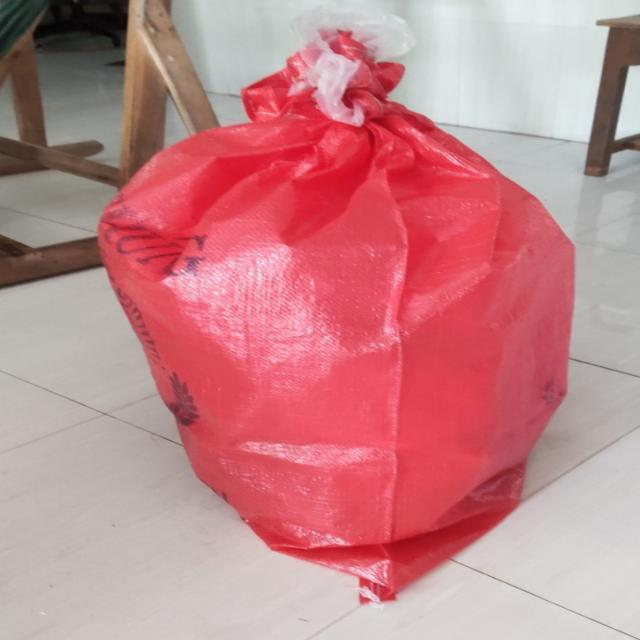gunny_bag: (96, 7, 575, 604)
